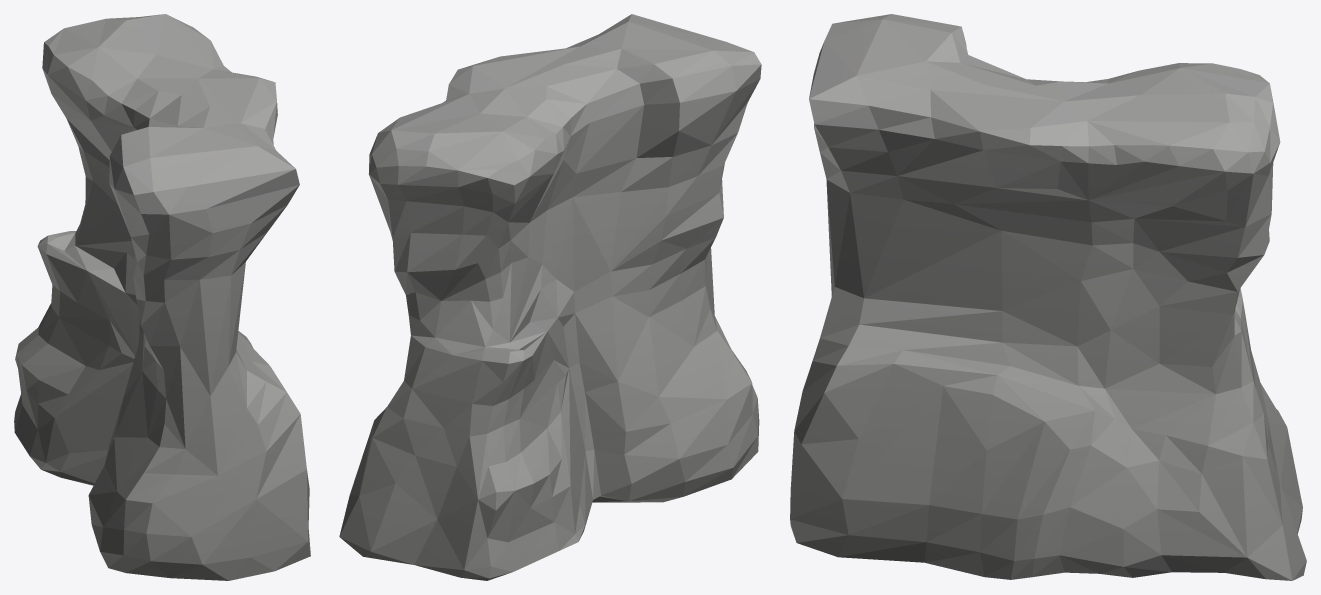
The model's file is Cavern_Wall_Narrow-01.fbx.
3 views of the same model, side by side, from view 1: azimuth 30°, elevation 25°; view 2: azimuth 150°, elevation 25°; view 3: azimuth 270°, elevation 25° (orthographic). The views are drawn at different scales.
Parts seen in each view (by area): view 1: Cavern_Wall_Narrow-01; view 2: Cavern_Wall_Narrow-01; view 3: Cavern_Wall_Narrow-01.
Part boxes in pixels (<box>): Cavern_Wall_Narrow-01: <box>14,14,310,580</box>; Cavern_Wall_Narrow-01: <box>339,14,761,580</box>; Cavern_Wall_Narrow-01: <box>790,14,1306,580</box>.
Size of the model in its own units: 694 by 1191 by 1147.
Materials: 1 (1 with a texture image).
